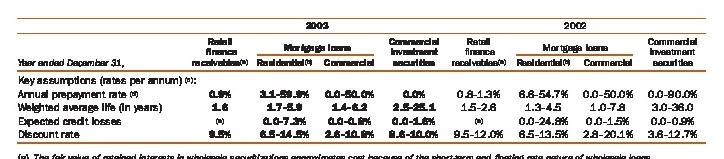table: (0, 0, 724, 159)
